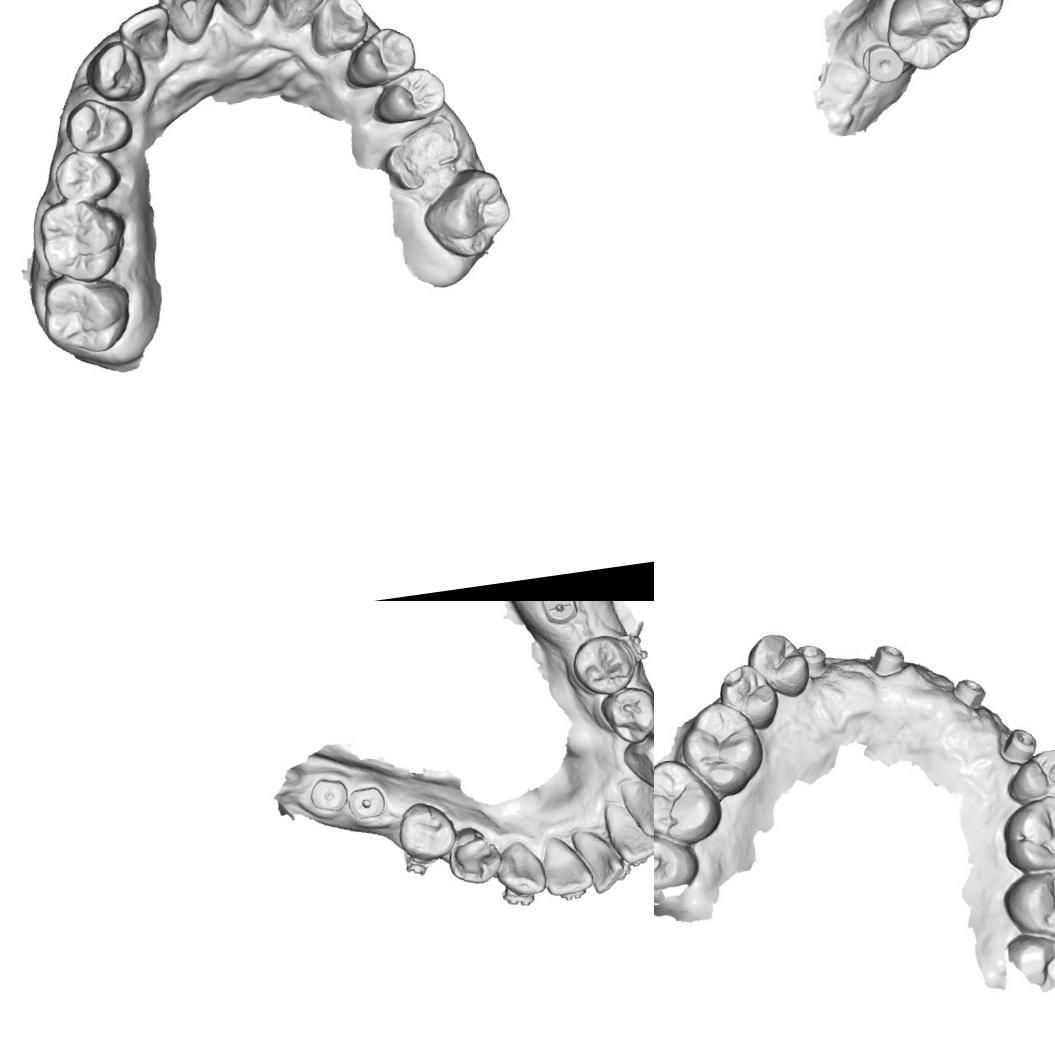canine: (300, 0, 372, 60), (82, 38, 146, 105), (496, 836, 548, 900), (618, 737, 654, 798)
implant: (857, 35, 911, 90), (950, 671, 1001, 725), (998, 718, 1044, 762), (800, 638, 835, 678), (870, 641, 904, 678)
implant_minus: (345, 778, 393, 826), (305, 775, 350, 816), (538, 601, 583, 626)
incisor: (116, 3, 176, 66), (541, 834, 597, 901), (578, 824, 630, 896), (154, 0, 225, 48), (604, 800, 654, 868), (208, 0, 279, 35), (622, 776, 654, 843), (267, 0, 330, 33)
molar: (416, 162, 518, 268), (674, 698, 770, 804), (33, 195, 133, 290), (40, 270, 133, 362), (654, 753, 726, 851), (883, 0, 975, 75), (998, 862, 1055, 950), (999, 793, 1055, 874), (654, 830, 702, 894)
premolar: (339, 21, 424, 93), (366, 62, 450, 132), (59, 92, 136, 160), (740, 630, 810, 704), (569, 631, 637, 698), (50, 145, 122, 208), (717, 663, 780, 735), (394, 798, 458, 866), (441, 822, 501, 889), (596, 684, 654, 746), (999, 745, 1055, 809), (944, 0, 1010, 26)
